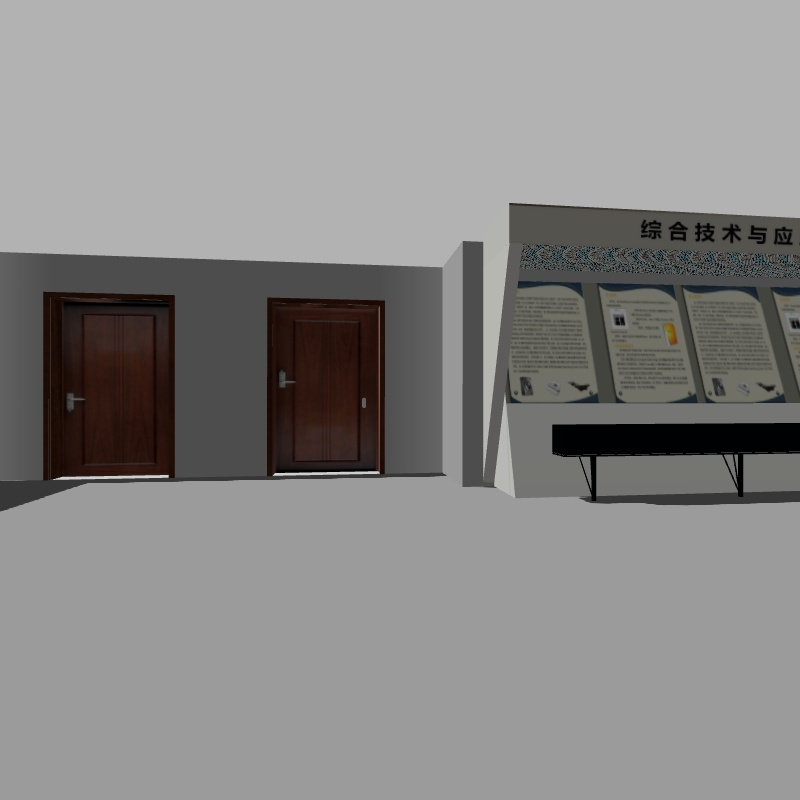handle: (60, 388, 85, 414), (272, 370, 299, 391)
